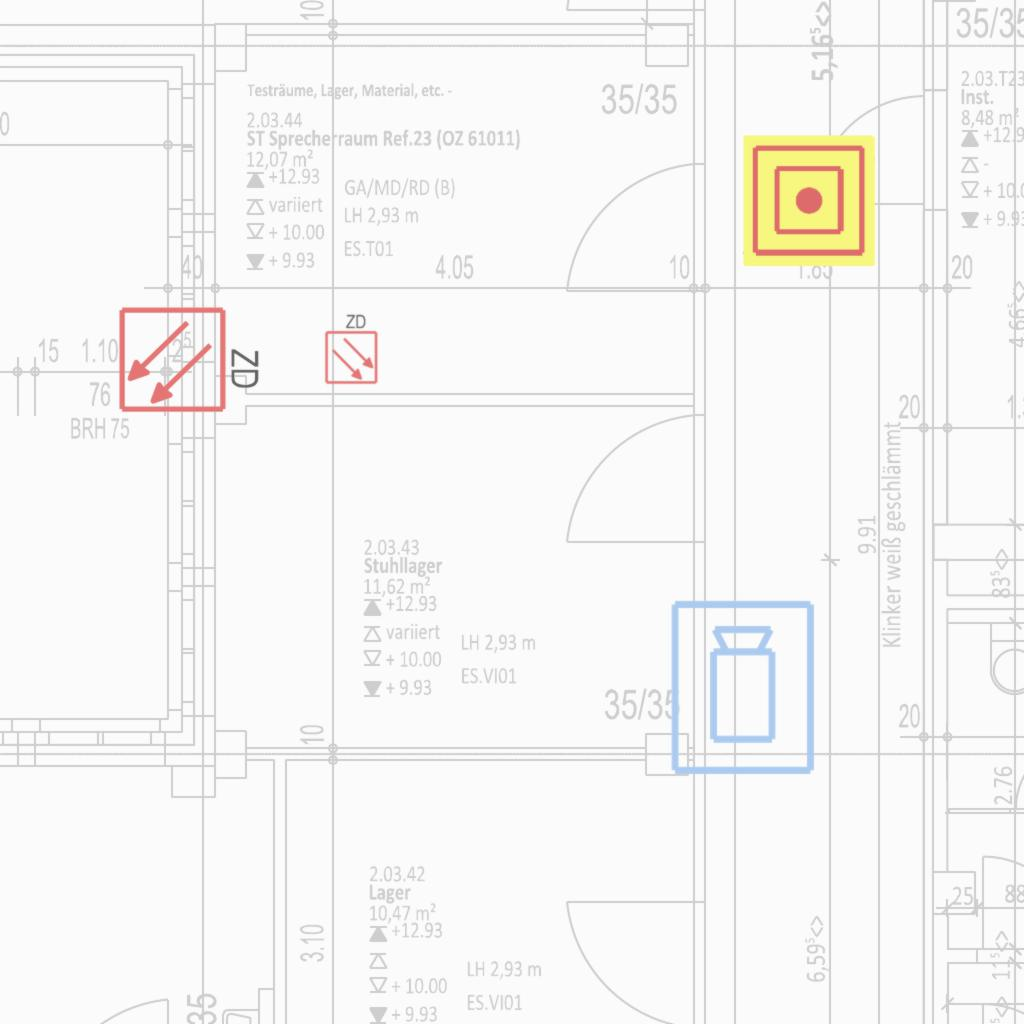KFO_Kamera_mit_Festobjektiv: (667, 597, 821, 779)
NAM-Nichtautomatischer_Melder: (743, 135, 875, 267)
ZD_Melder_in_Zwischendecke_mit_Revisionsoeffnung_mind_40_x_40_cm: (117, 301, 266, 415), (322, 311, 379, 385)
